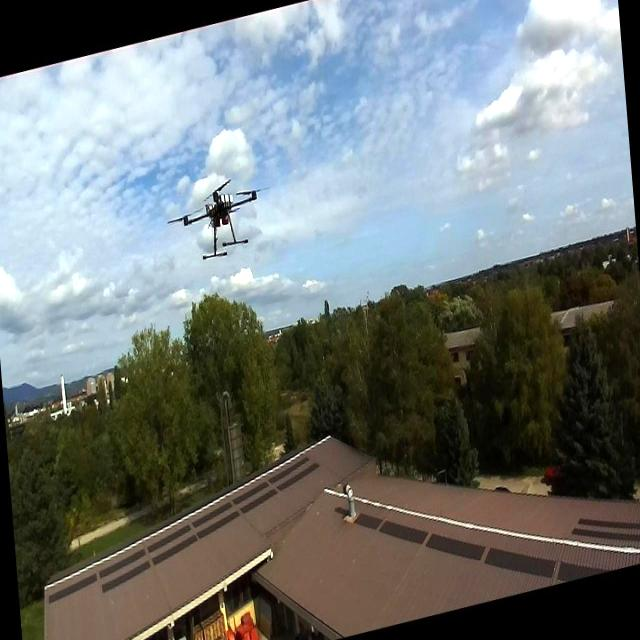drone: (172, 170, 266, 272)
